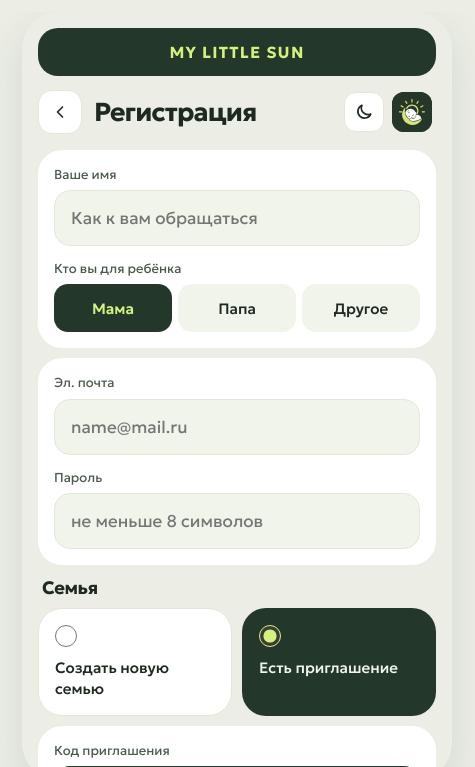
RegisterPage Component › switches between family invitation code and creating new family
The width and height of the screenshot is (475, 767).
// Switch to new family
Click the radio button with test id "family-mode-new": point(66, 636) [55, 625, 77, 647]
(page scrolled)
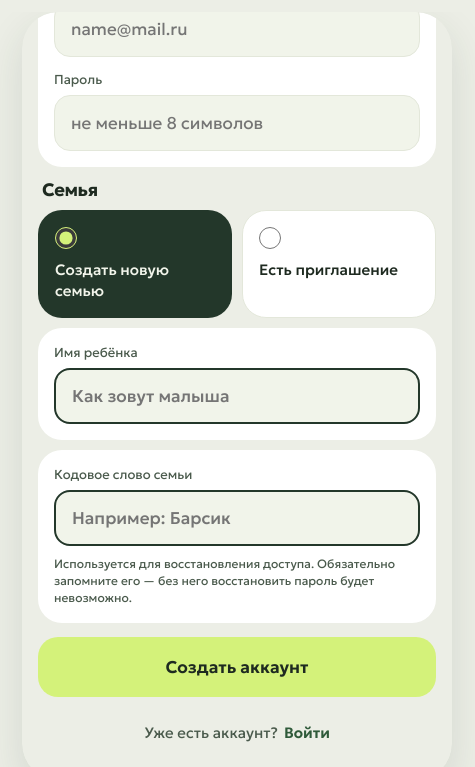
Expected: the element with test id "child-name-container" is shown, [38, 328, 436, 440]
Expected: the field with test id "register-child-name-input" is shown, [54, 368, 420, 424]
